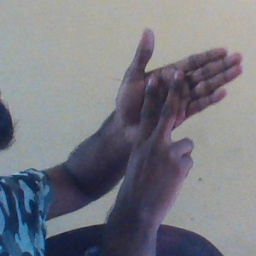N: (106, 25, 246, 181)
